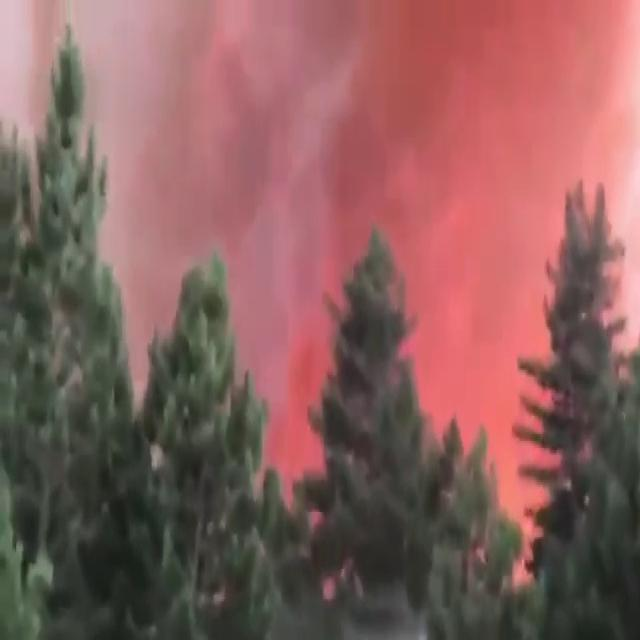Smoke: (120, 28, 636, 159), (438, 188, 511, 406), (256, 191, 316, 385), (130, 188, 174, 281)
